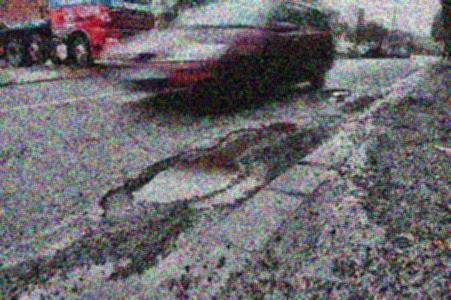pothole: (123, 118, 302, 204), (324, 86, 352, 101)
